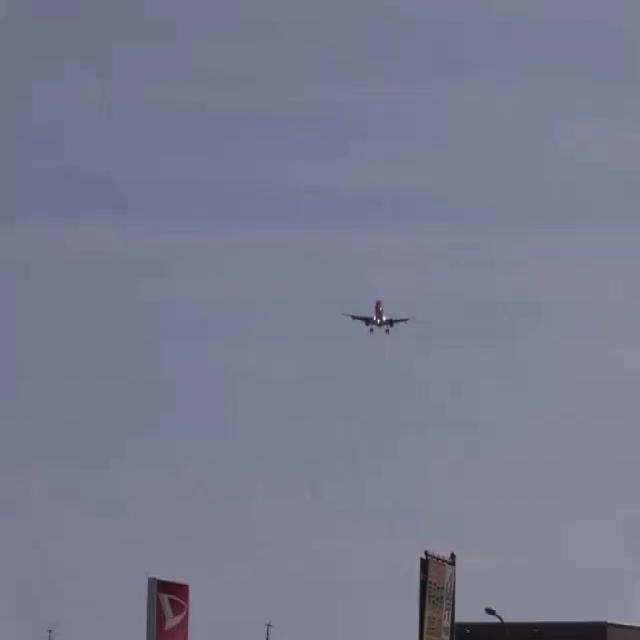AirPlane: (330, 286, 426, 344)
